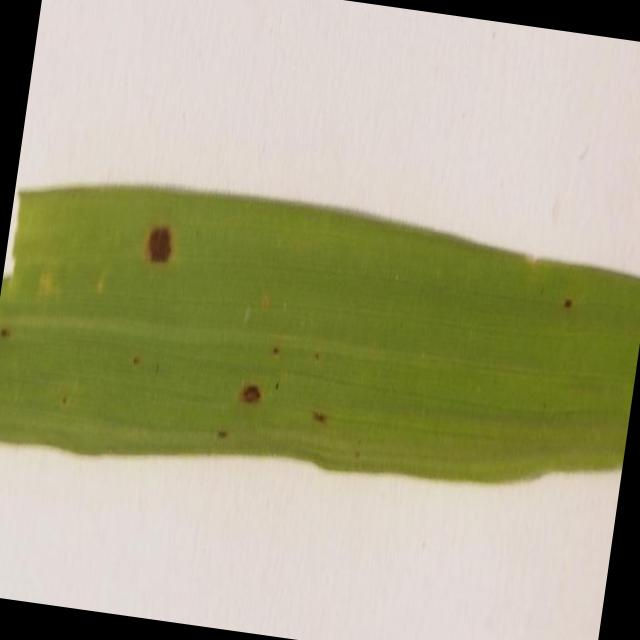Rice_Brownspot: (140, 192, 185, 283), (231, 347, 268, 428), (296, 374, 341, 438), (0, 295, 31, 377), (555, 264, 584, 324)
